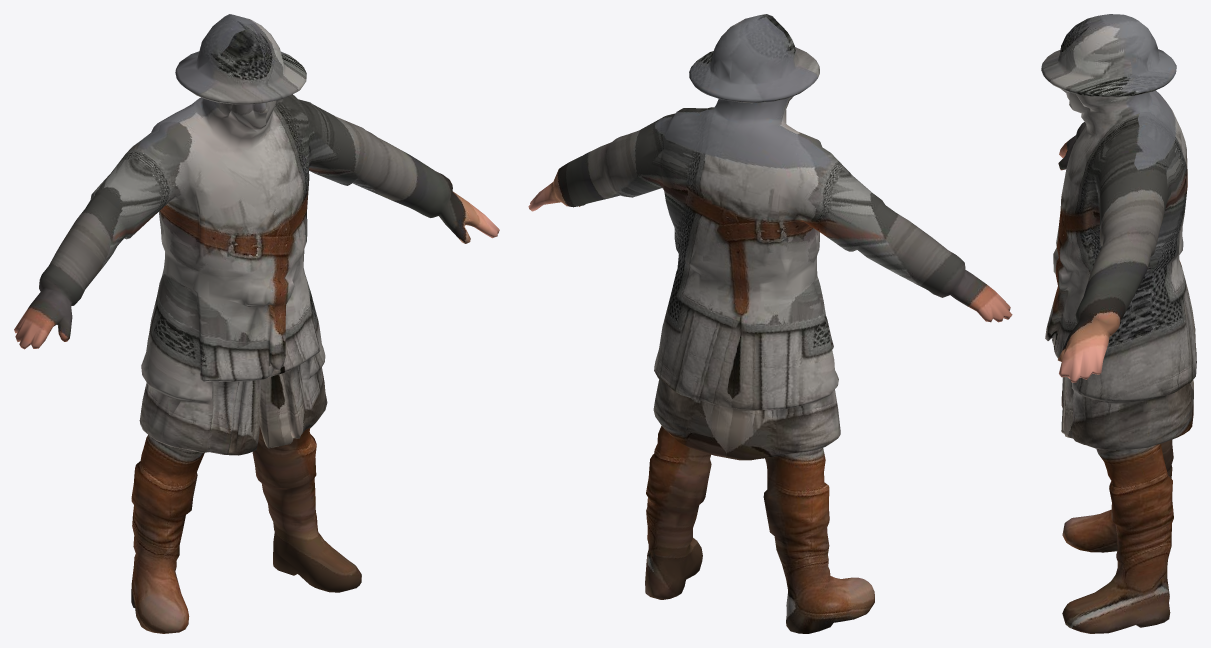
Rendered from soldier.glb.
3 views of the same model, side by side, from view 1: azimuth 30°, elevation 25°; view 2: azimuth 150°, elevation 25°; view 3: azimuth 270°, elevation 25° (orthographic).
Visible parts, largest first — view 1: geometry_0; view 2: geometry_0; view 3: geometry_0.
Part boxes in pixels (x1,y1,x2,y2): geometry_0: [14, 14, 499, 633]; geometry_0: [528, 14, 1012, 633]; geometry_0: [1041, 14, 1196, 633].
Bounding box in the file's own units: 1.52 × 1.75 × 0.4337.
1 material, 1 textured.
